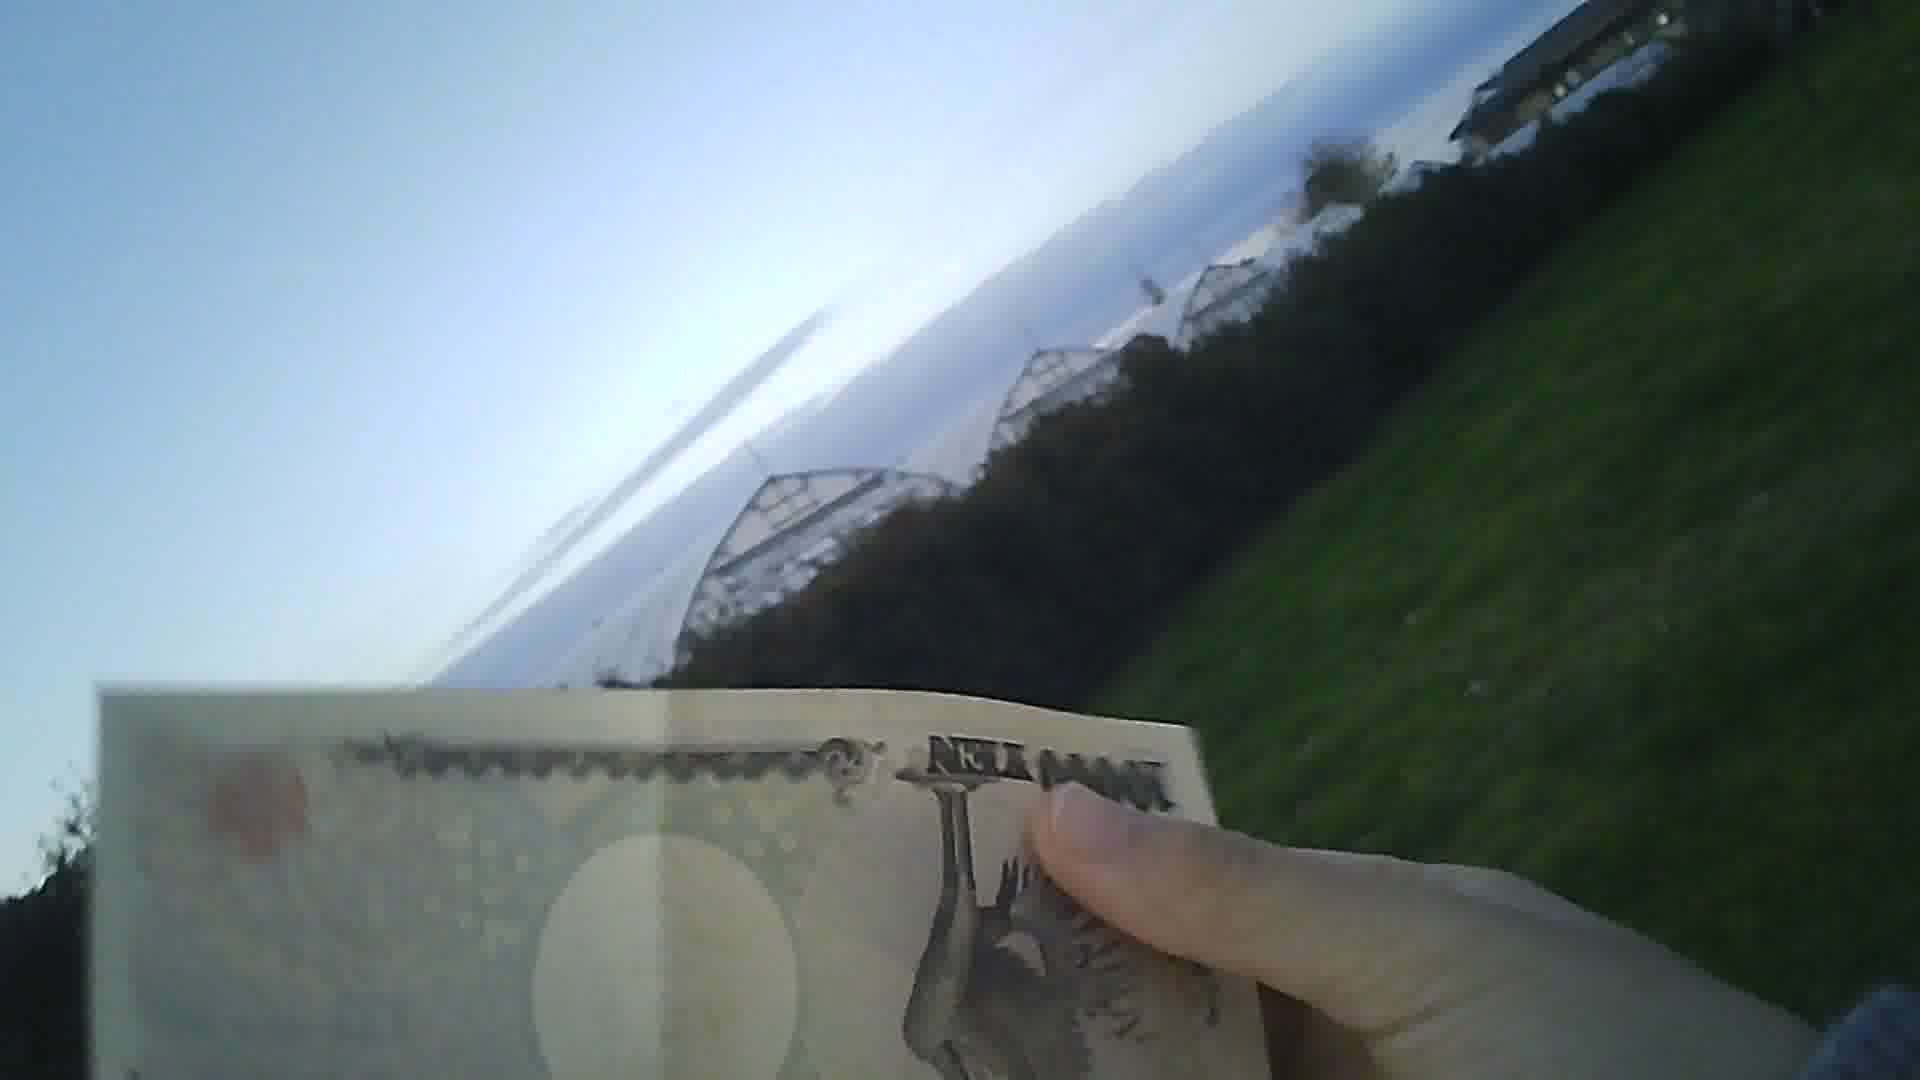10,000 Yen: (61, 665, 1294, 1069)
